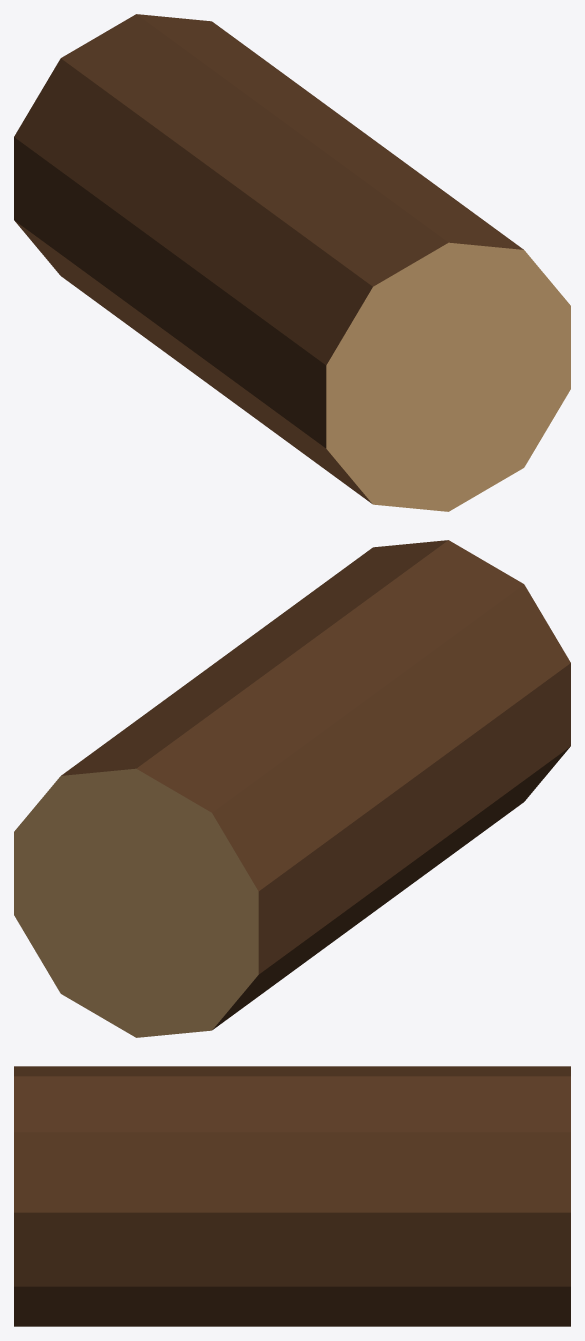
Rendered from log.fbx.
The picture shows the model from 3 angles, top to bottom: view 1: azimuth 30°, elevation 25°; view 2: azimuth 150°, elevation 25°; view 3: azimuth 270°, elevation 25°; orthographic projection. The views are drawn at different scales.
Parts seen in each view (by area): view 1: Cylinder; view 2: Cylinder; view 3: Cylinder.
Part boxes in pixels (x1=…): Cylinder: x1=14, y1=14, x2=570, y2=511; Cylinder: x1=14, y1=540, x2=570, y2=1037; Cylinder: x1=14, y1=1066, x2=570, y2=1326.
Bounding box in the file's own units: 94.77 × 99.65 × 210.
